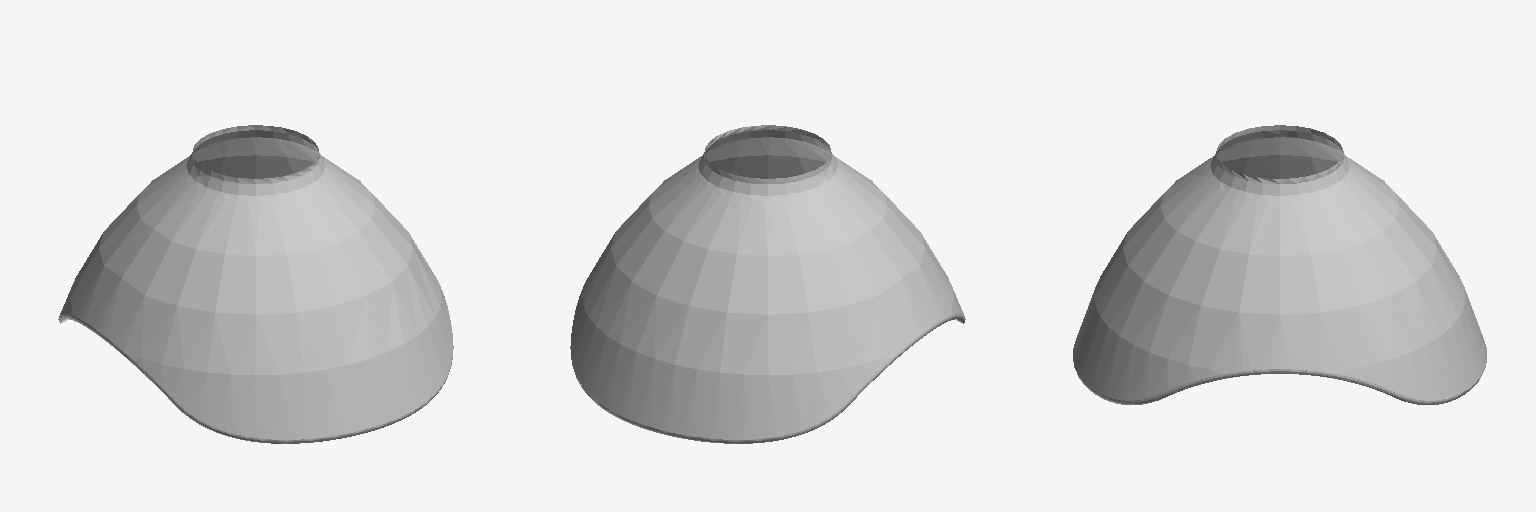
Rendered from original-4.obj.
The picture shows the model from 3 angles: view 1: azimuth 30°, elevation 25°; view 2: azimuth 150°, elevation 25°; view 3: azimuth 270°, elevation 25°; orthographic projection.
Visible parts, largest first — view 1: mesh3/mesh3-geometry#mesh3-geometry; view 2: mesh3/mesh3-geometry#mesh3-geometry; view 3: mesh3/mesh3-geometry#mesh3-geometry.
Boxes of the visible parts, <box> form: mesh3/mesh3-geometry#mesh3-geometry: <box>58,125,453,443</box>; mesh3/mesh3-geometry#mesh3-geometry: <box>570,125,965,443</box>; mesh3/mesh3-geometry#mesh3-geometry: <box>1073,125,1486,404</box>.
Bounding box in the file's own units: 0.4297 × 0.2681 × 0.4845.